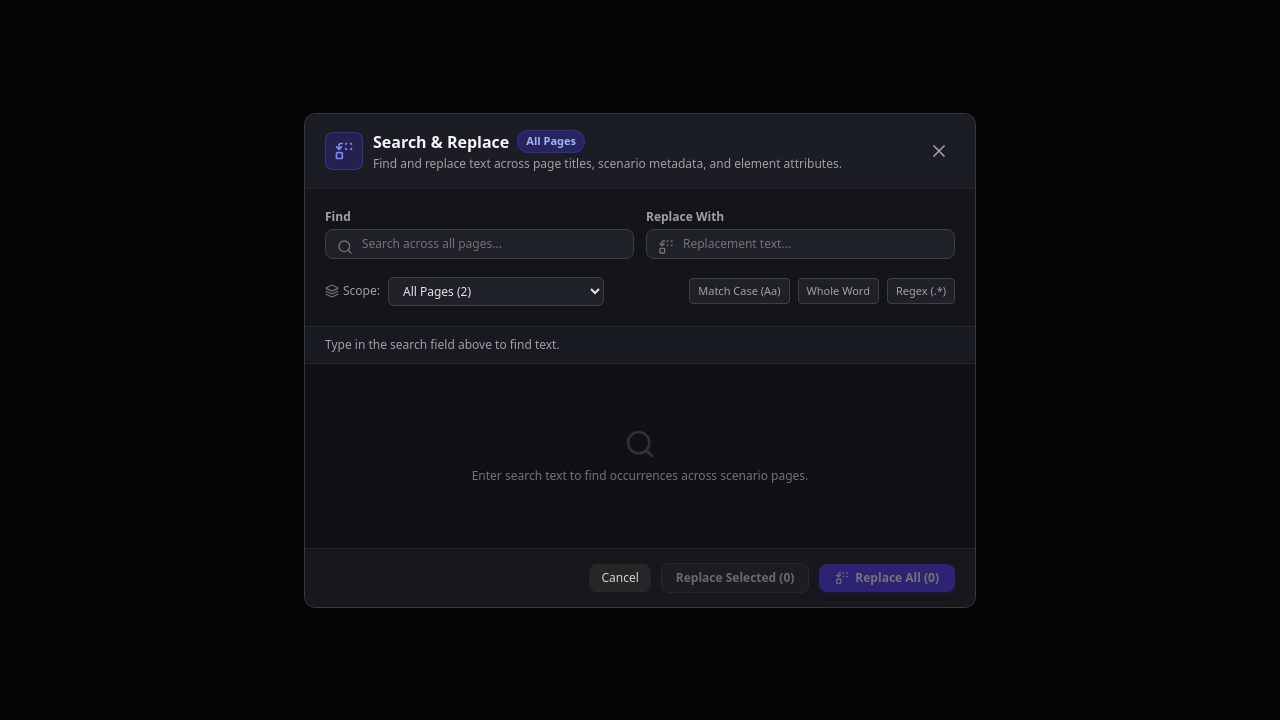
Test: SearchReplaceModal › supports selective replacement by unchecking matches
Type "goblin" into the field with placeholder "Search across all pages..." at (480, 244), box x1=325 y1=228 x2=634 y2=258
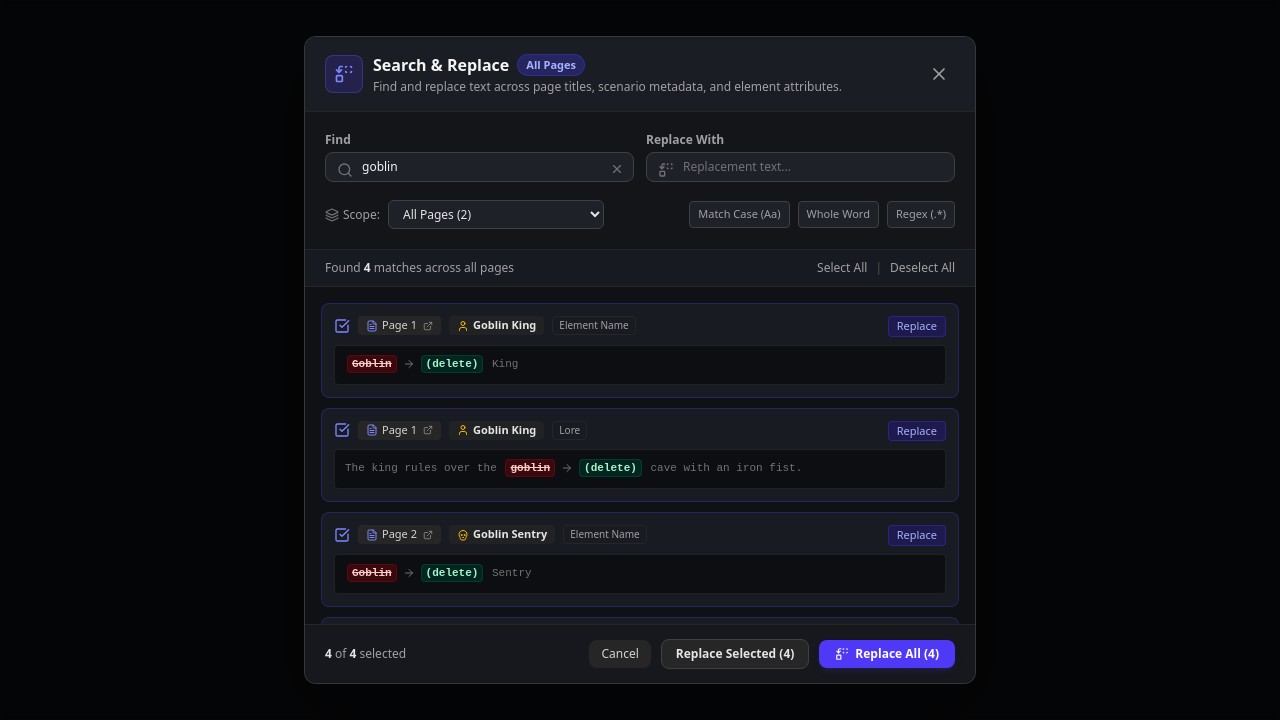
Type "hobgoblin" into the field with placeholder "Replacement text..." at (800, 167), box x1=646 y1=152 x2=955 y2=182
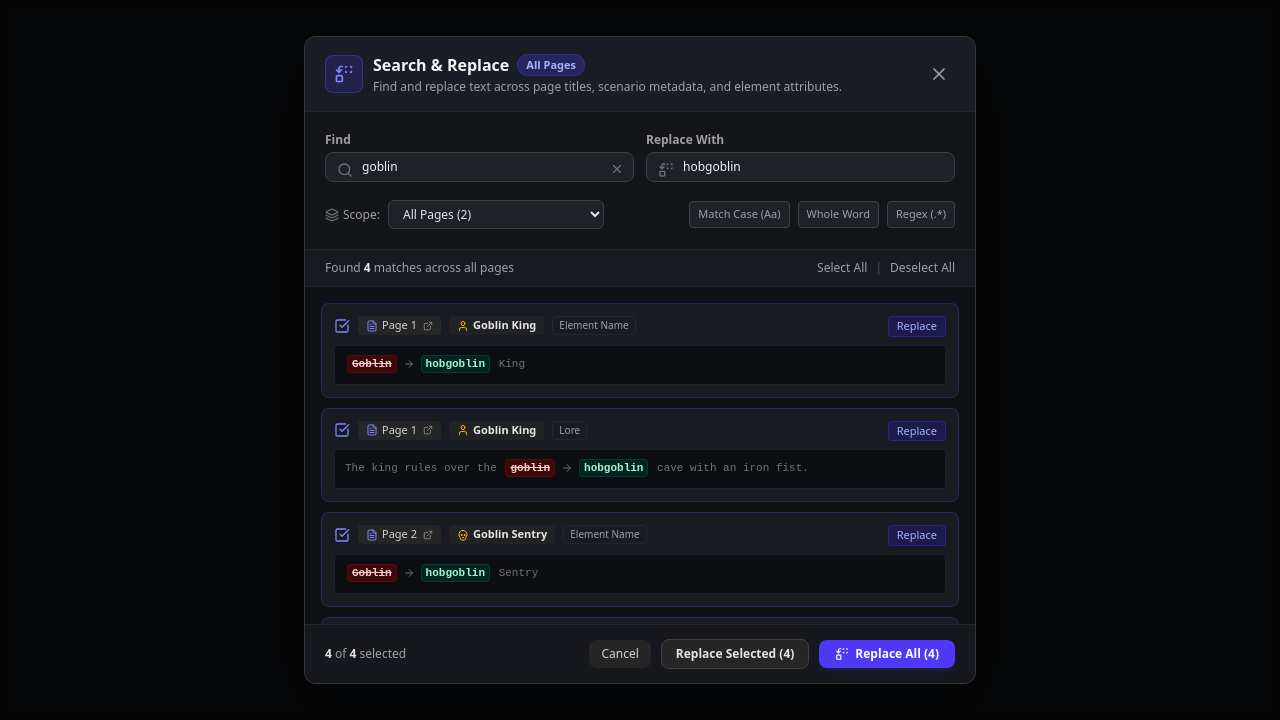
Deselect all
Click the button "Deselect All" at (922, 268), box x1=890 y1=260 x2=955 y2=276
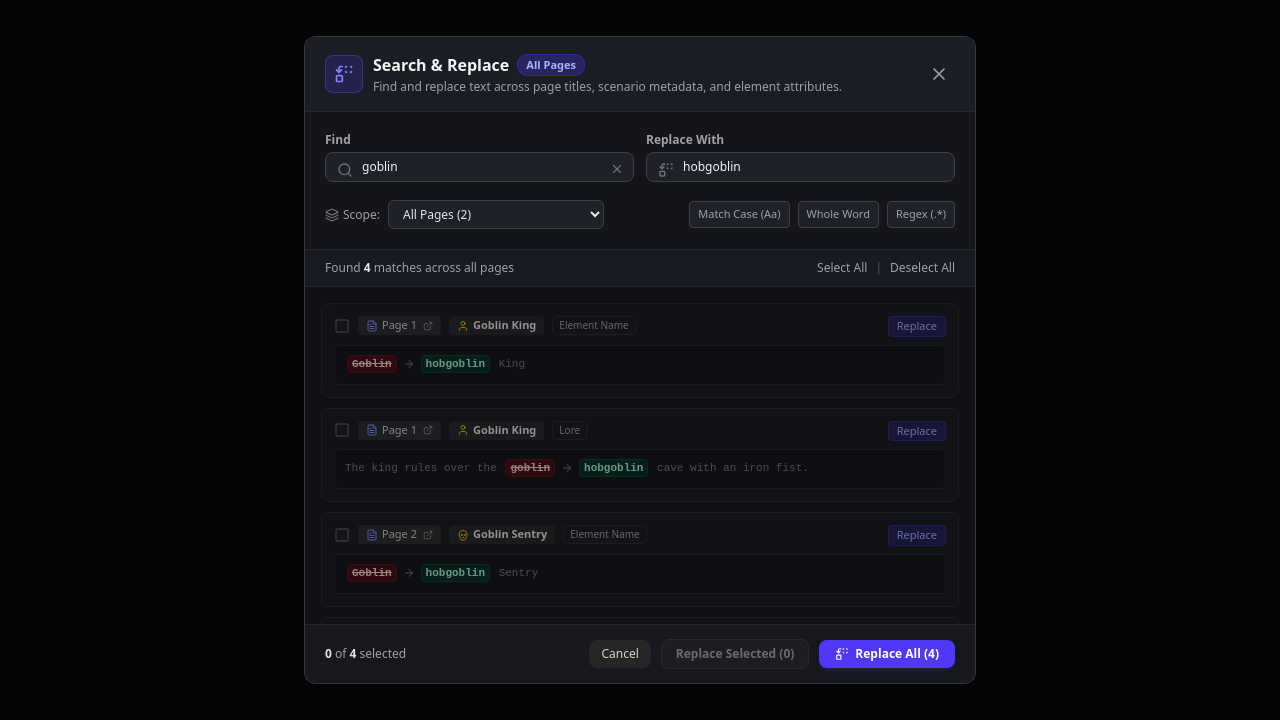
expect the button "Replace Selected (0)" is disabled: met, box x1=661 y1=639 x2=809 y2=669
Select all back
Click the button "Select All" at (842, 268), box x1=817 y1=260 x2=867 y2=276
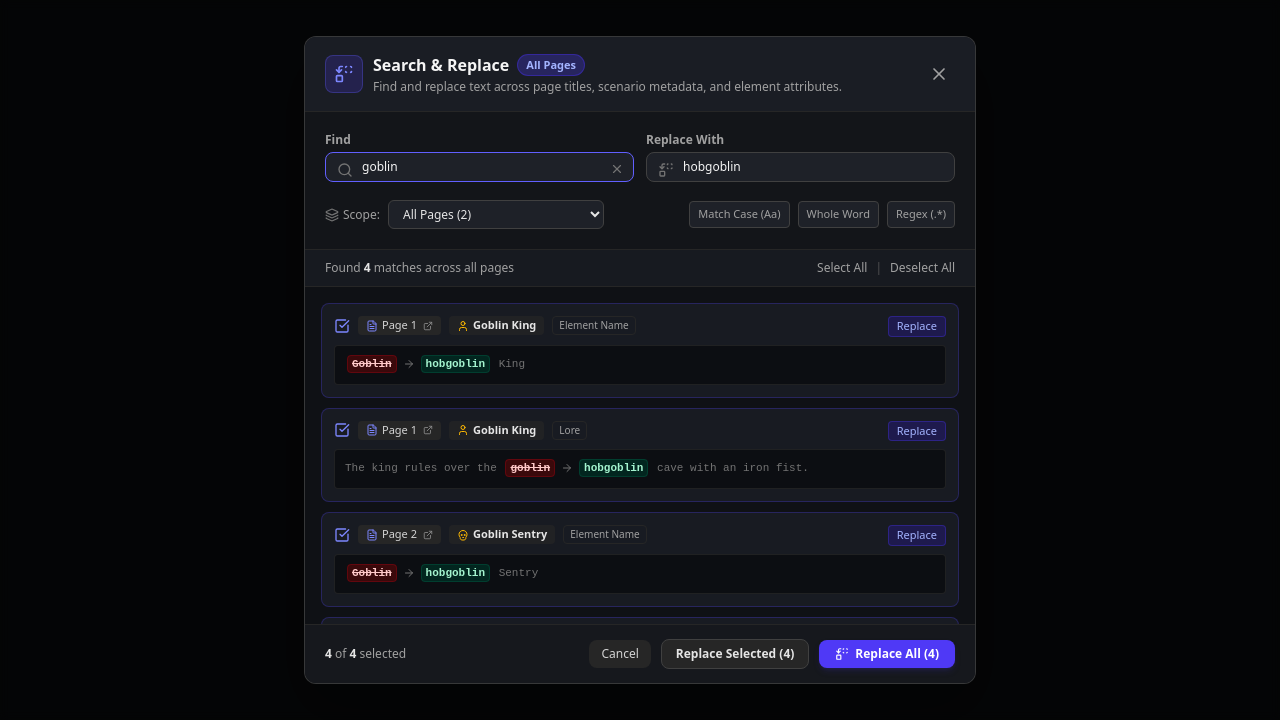
expect the button "Replace Selected (4)" is enabled: met, box x1=661 y1=639 x2=809 y2=669
